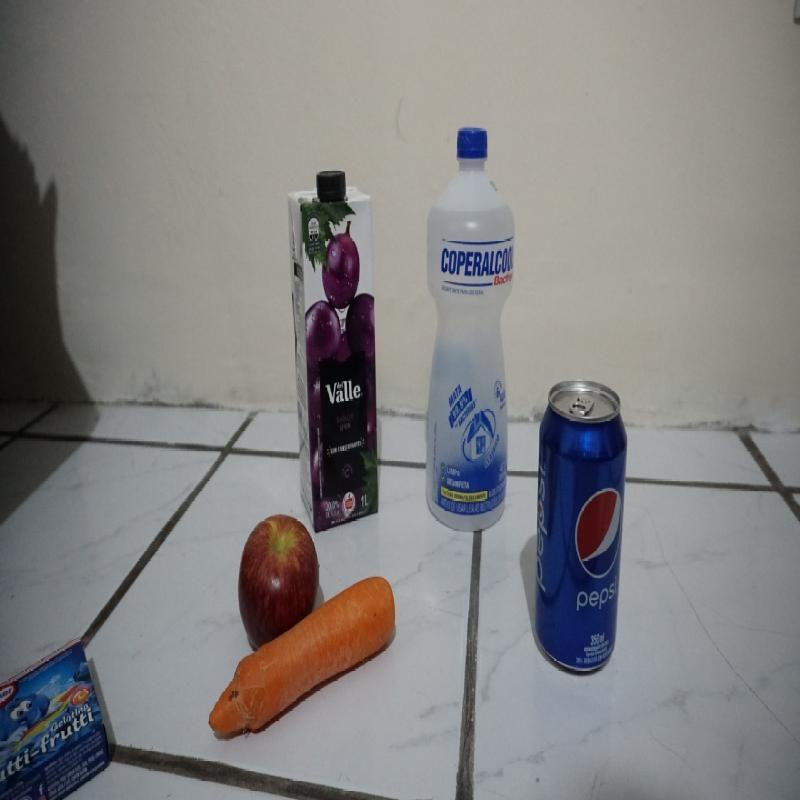Alcohol Bottle: (423, 123, 516, 530)
Carrot: (207, 573, 400, 738)
Gelatine: (1, 634, 112, 798)
Soda can: (534, 375, 628, 676)
